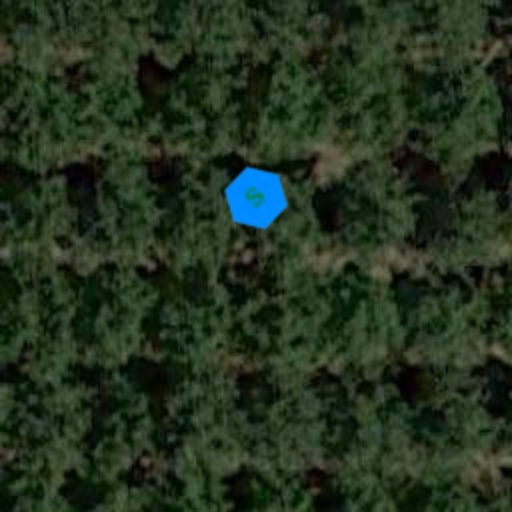hexagon: (208, 150, 304, 246)
